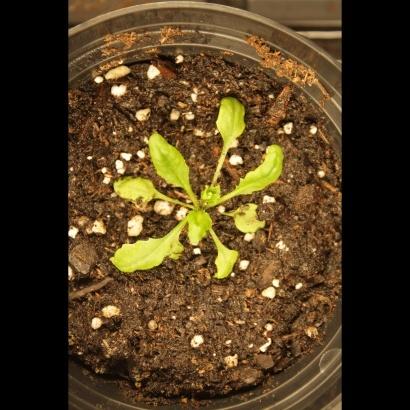leaf: (231, 143, 290, 199), (146, 127, 195, 192), (104, 238, 171, 276), (209, 86, 248, 150), (105, 174, 162, 213), (211, 236, 247, 288), (228, 202, 269, 238), (186, 206, 213, 248), (200, 179, 223, 209), (164, 237, 188, 262)
